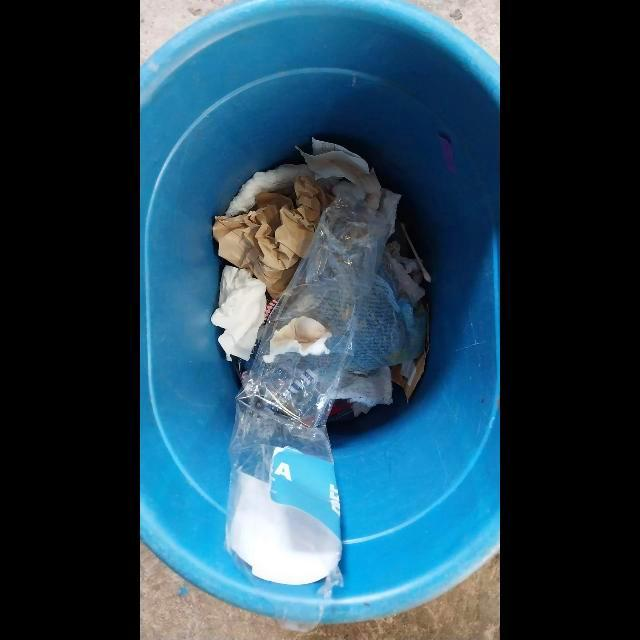paper: (212, 176, 335, 301), (210, 265, 267, 362), (294, 137, 382, 193)
plastic_bag: (226, 175, 430, 588)
